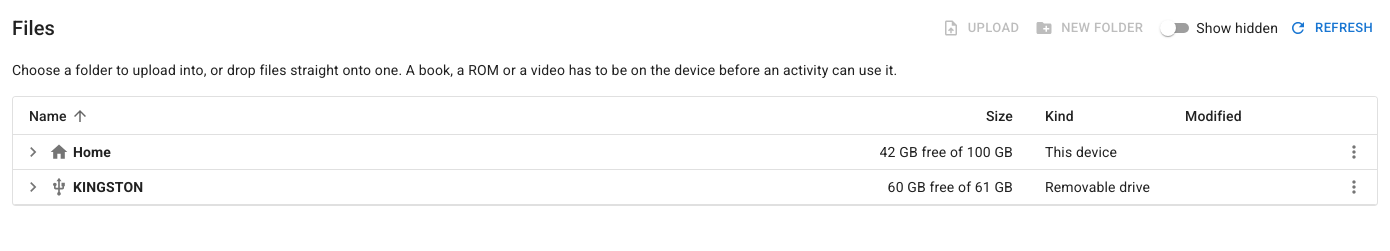
Scenario: the file tree › says what went wrong without closing the folder
Expected: the heading "Files" is shown, [12, 12, 55, 44]
Click the button named "Expand Home" at coordinates (33, 152), box [18, 137, 48, 167]
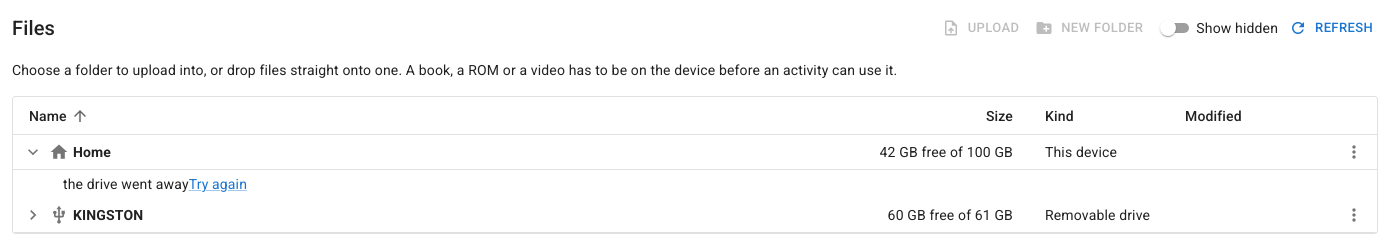
Expected: the text "the drive went away Try again" is shown, [63, 174, 247, 194]
Expected: the button named "Collapse Home" is shown, [18, 137, 48, 167]
